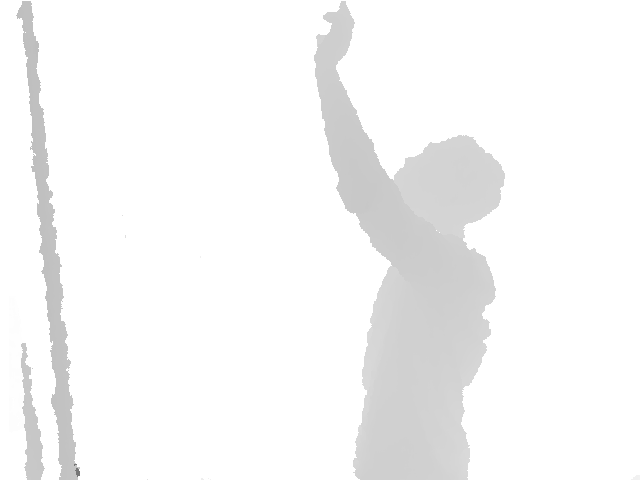hand: (313, 1, 356, 67)
head: (394, 135, 505, 233)
person: (312, 1, 506, 480)
